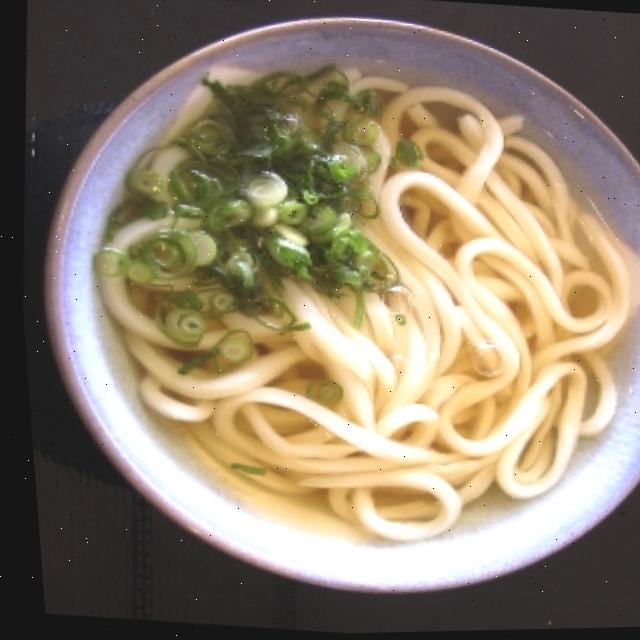面条主食: (12, 20, 640, 593)
